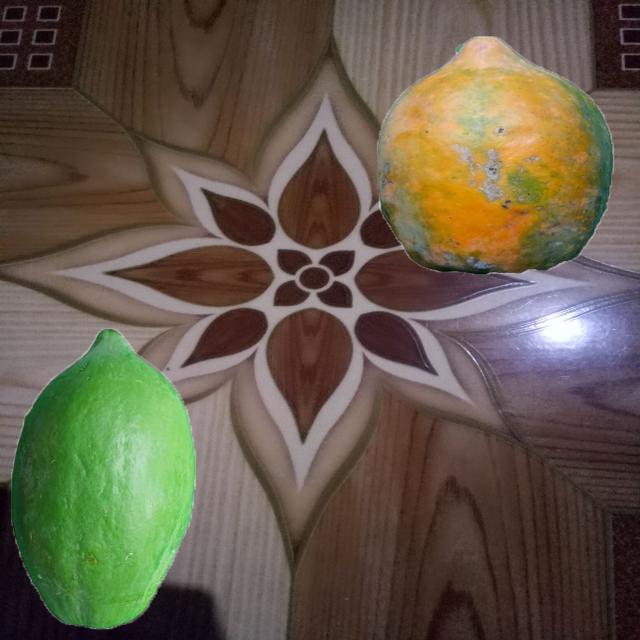Pepaya rippen: (376, 28, 613, 284)
Pepaya unrippen: (17, 319, 199, 628)
